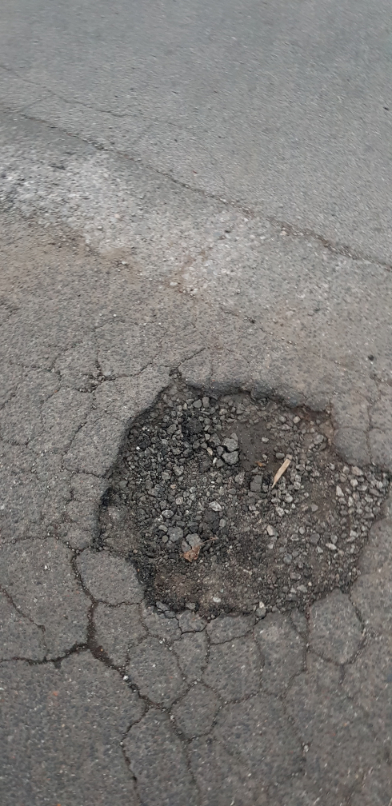pothole: (81, 360, 391, 626)
